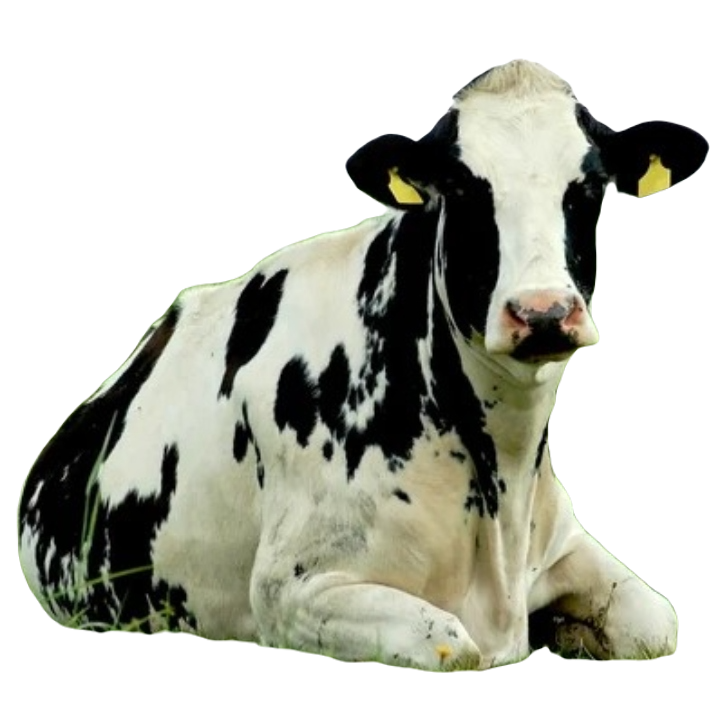Cow: (16, 59, 708, 670)
